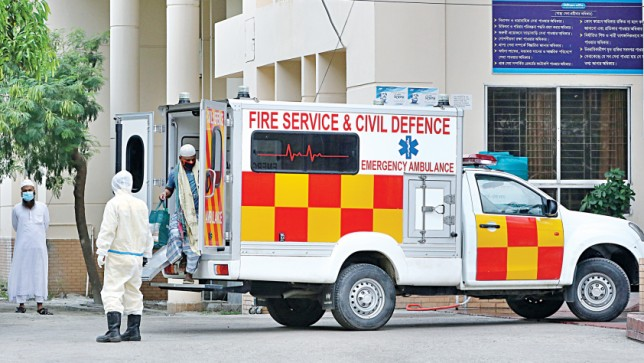ambulance: (111, 85, 644, 332)
